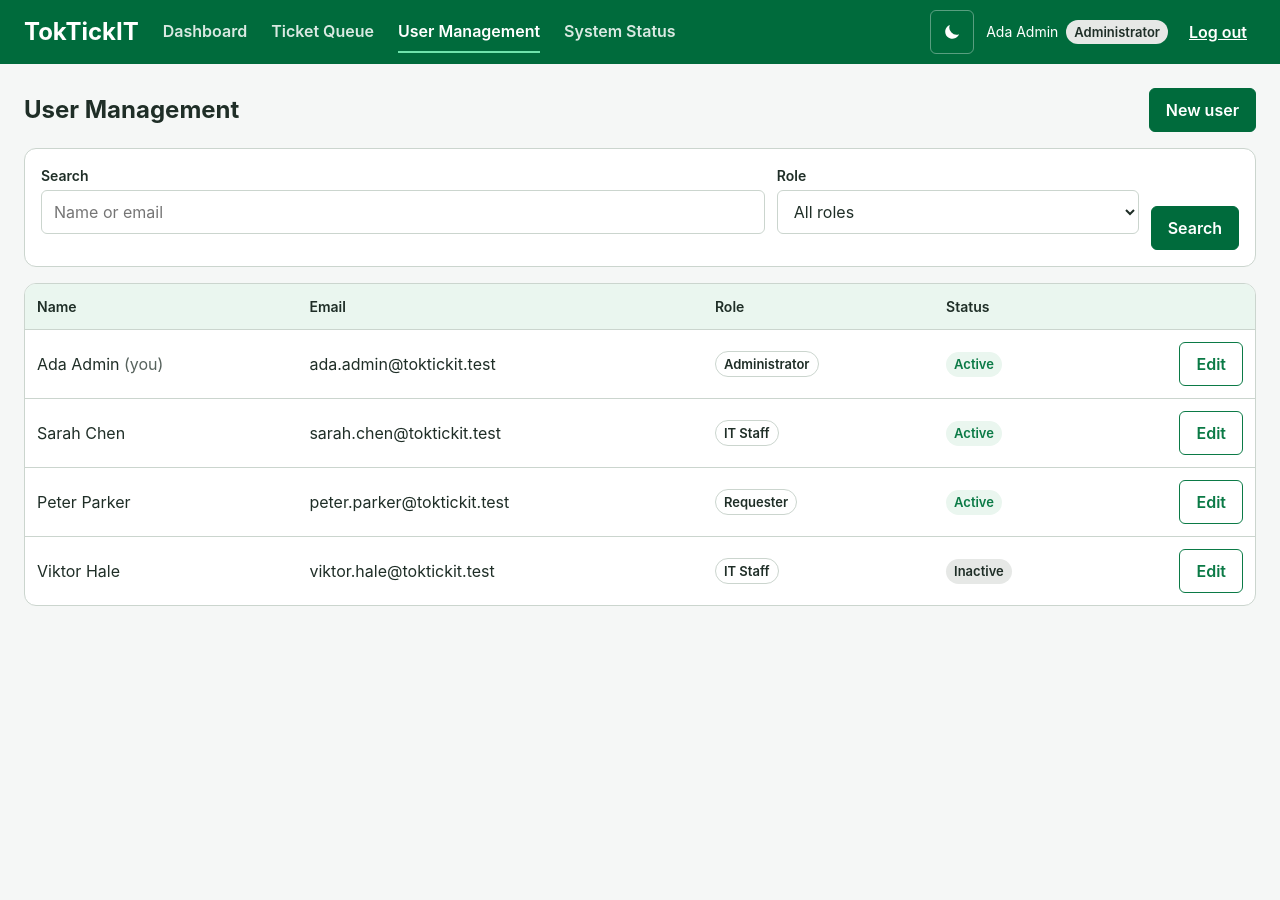
Scenario: UI-19 creating a user (AC-37) › validates every field before sending anything
The image size is (1280, 900).
Expected: the heading "User Management" is shown, [24,96,239,124]
Click the button "New user".
click(1202, 110)  # box [1149,88,1256,132]
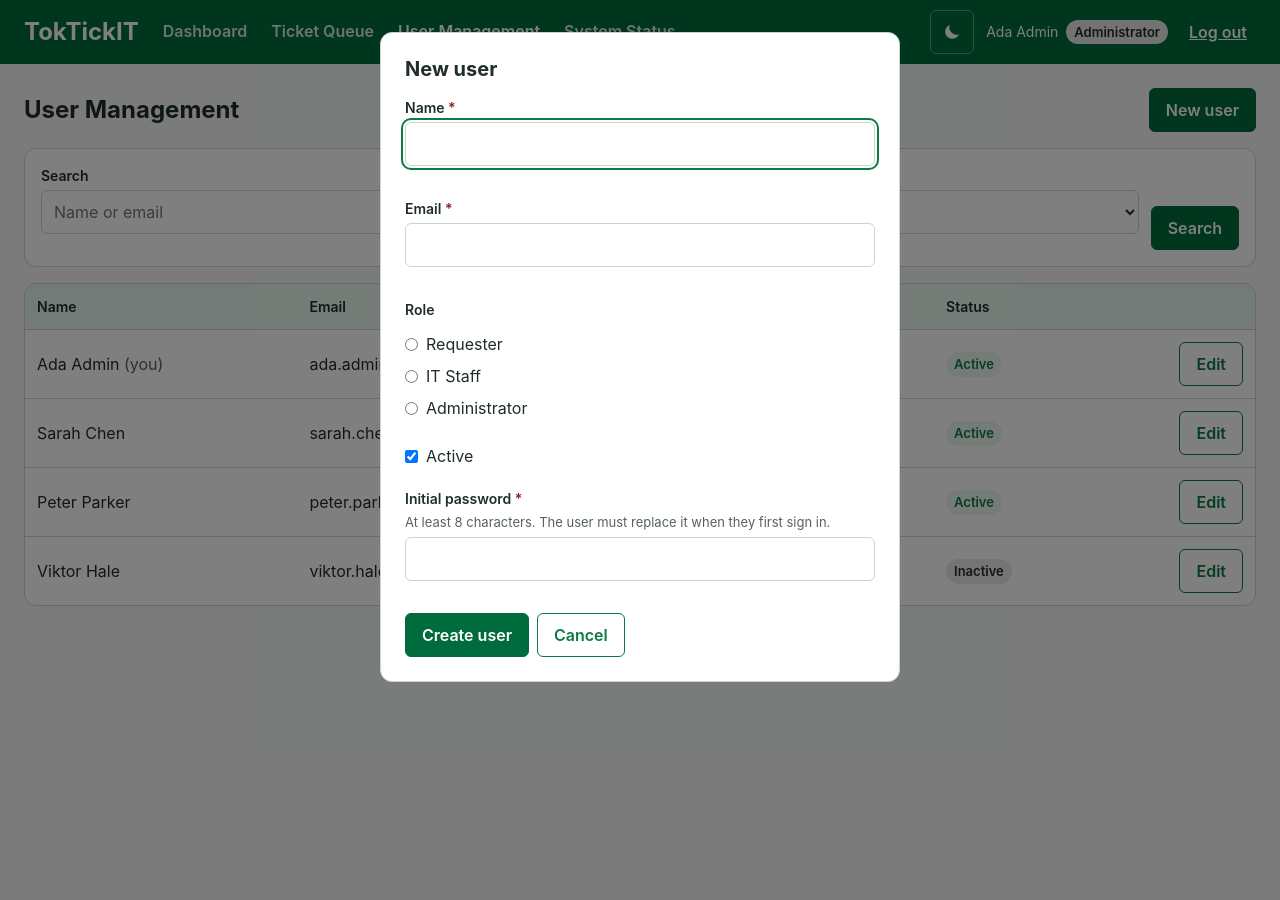
Click the button "Create user".
click(467, 634)  # box [405,612,529,656]
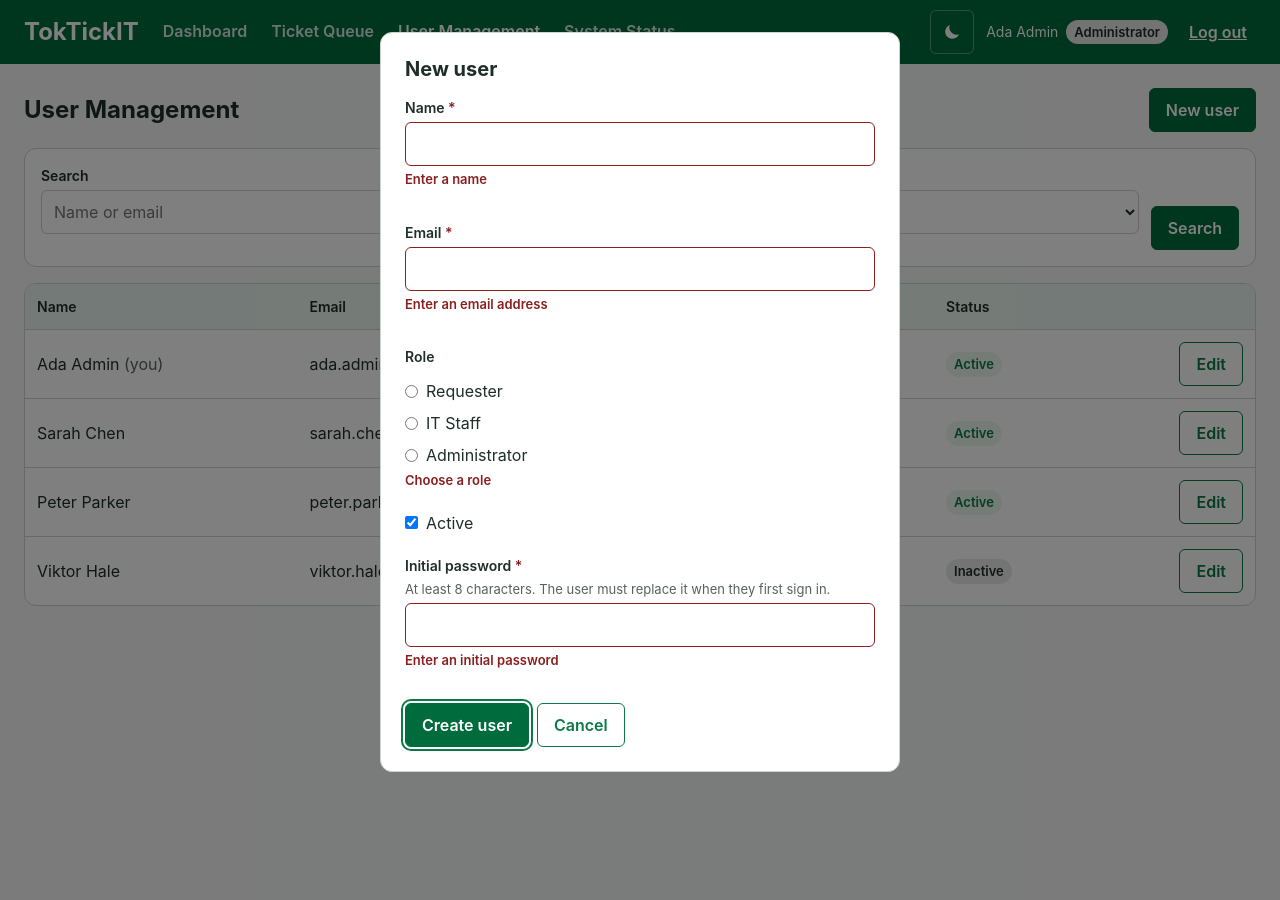
Expected: the text "Enter a name" is shown, [405,171,487,187]
Expected: the text "Enter an email address" is shown, [405,296,548,312]
Expected: the text "Choose a role" is shown, [405,472,491,488]
